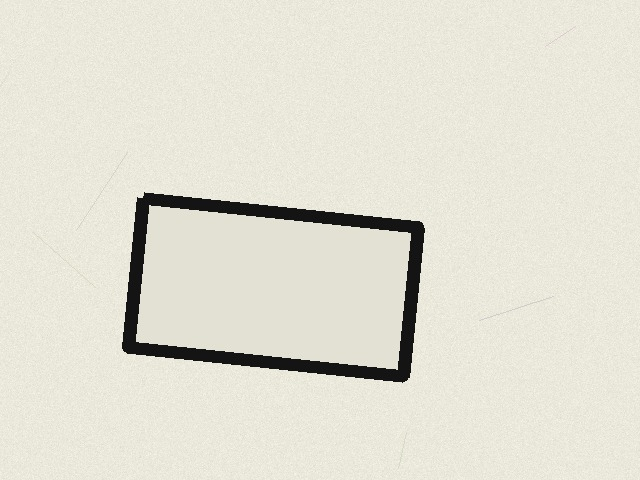parking_area: (128, 198, 418, 376)
